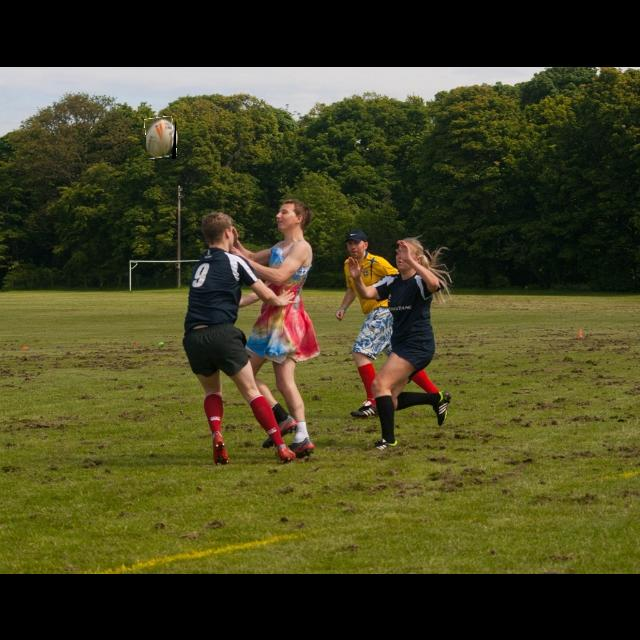Football: (146, 117, 176, 159)
